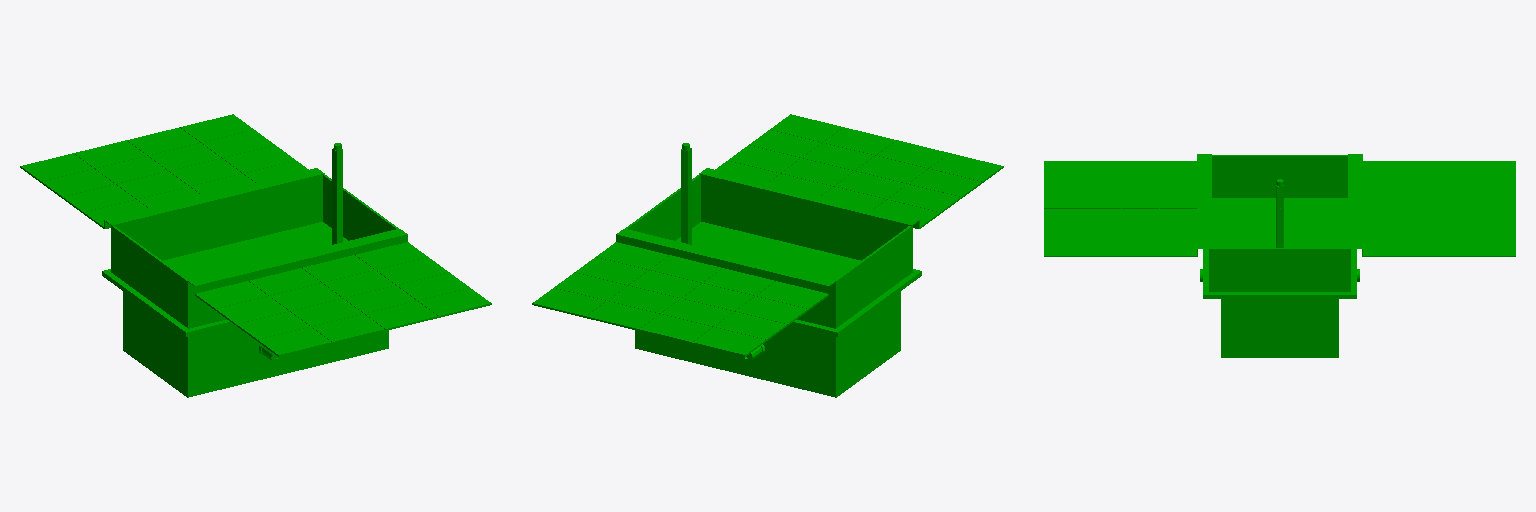
robot.urdf — yahboomcar:
<?xml version="1.0" encoding="utf-8"?>
<!-- This URDF was automatically created by SolidWorks to URDF Exporter! Originally created by [author] ([email redacted]) 
     Commit Version: 1.6.0-1-g15f4949  Build Version: 1.6.7594.29634  81.5+32.5
     For more information, please see http://wiki.ros.org/sw_urdf_exporter -->
<robot name="yahboomcar">
    <link name="base_footprint"/>
    <link name="imu_link"/>
    <link name="base_link">
        <inertial>
            <origin xyz="0.00498197982182523 5.70233829969297E-05 -0.0121008098068578" rpy="0 0 0"/>
            <mass value="0.486218814966626"/>
            <inertia
                    ixx="0.00196277727666921"
                    ixy="2.50447049446755E-07"
                    ixz="0.000140534767811098"
                    iyy="0.00457256033711368"
                    iyz="2.68618064993882E-07"
                    izz="0.00493927269870476"/>
        </inertial>
        <visual>
            <origin xyz="0 0 0" rpy="0 0 0"/>
            <geometry>
                <mesh filename="package://odom_visualization/meshes/yahboomcar_X3/mecanum/base_link.STL"/>
            </geometry>
            <material name="">
                <color rgba="0 0.7 0 1"/>
            </material>
        </visual>
        <collision>
            <origin xyz="0 0 0" rpy="0 0 0"/>
            <geometry>
                <mesh filename="package://odom_visualization/meshes/yahboomcar_X3/mecanum/base_link.STL"/>
            </geometry>
        </collision>
    </link>
    <joint name="base_joint" type="fixed">
        <parent link="base_footprint"/>
        <child link="base_link"/>
        <origin xyz="0.0 0.0 0.0815" rpy="0 0 0"/>
    </joint>
    <joint name="base_imu" type="fixed">
        <parent link="base_link"/>
        <child link="imu_link"/>
        <origin xyz="-0.06 0.01 0.01" rpy="0 3.1415 1.5707"/>
    </joint>
    <link name="front_right_wheel">
        <inertial>
            <origin xyz="1.9051E-06 -2.3183E-07 -0.00064079" rpy="0 0 0"/>
            <mass value="0.051532"/>
            <inertia ixx="1.4595E-05" ixy="-4.3975E-10" ixz="4.415E-10"
                     iyy="1.4594E-05" iyz="-1.7476E-09" izz="2.4264E-05"/>
        </inertial>
        <visual>
            <origin xyz="0 0 0" rpy="0 0 0"/>
            <geometry>
                <mesh filename="package://odom_visualization/meshes/yahboomcar_X3/mecanum/front_right_wheel.STL"/>
            </geometry>
            <material name="">
                <color rgba="0.7 0.7 0.7 1"/>
            </material>
        </visual>
        <collision>
            <origin xyz="0 0 0" rpy="0 0 0"/>
            <geometry>
                <mesh filename="package://odom_visualization/meshes/yahboomcar_X3/mecanum/front_right_wheel.STL"/>
            </geometry>
        </collision>
    </link>
    <joint name="front_right_joint" type="continuous">
        <origin xyz="0.08 -0.0845 -0.0389" rpy="-1.5703 0 3.14159"/>
        <parent link="base_link"/>
        <child link="front_right_wheel"/>
        <axis xyz="0 0 1" rpy="0 0 0"/>
        <limit effort="100" velocity="1"/>
    </joint>
    <link name="front_left_wheel">
        <inertial>
            <origin xyz="2.3728E-06 -9.4228E-07 0.00064068" rpy="0 0 0"/>
            <mass value="0.051543"/>
            <inertia ixx="1.4597E-05" ixy="-4.7945E-10" ixz="-2.4786E-10"
                     iyy="1.4598E-05" iyz="1.7972E-09" izz="2.4267E-05"/>
        </inertial>
        <visual>
            <origin xyz="0 0 0" rpy="0 0 0"/>
            <geometry>
                <mesh filename="package://odom_visualization/meshes/yahboomcar_X3/mecanum/front_left_wheel.STL"/>
            </geometry>
            <material name="">
                <color rgba="0.7 0.7 0.7 1"/>
            </material>
        </visual>
        <collision>
            <origin xyz="0 0 0" rpy="0 0 0"/>
            <geometry>
                <mesh filename="package://odom_visualization/meshes/yahboomcar_X3/mecanum/front_left_wheel.STL"/>
            </geometry>
        </collision>
    </link>
    <joint name="front_left_joint" type="continuous">
        <origin xyz="0.08 0.084492 -0.0389" rpy="1.5703 0 0"/>
        <parent link="base_link"/>
        <child link="front_left_wheel"/>
        <axis xyz="0 0 1" rpy="0 0 0"/>
        <limit effort="100" velocity="1"/>
    </joint>
    <link name="back_right_wheel">
        <inertial>
            <origin xyz="-1.75924169923403E-06 1.28388821071107E-06 -0.000590549296238266" rpy="0 0 0"/>
            <mass value="0.051540174053366"/>
            <inertia ixx="1.45974152250002E-05" ixy="1.94850559178397E-10" ixz="-1.61846387282284E-09"
                     iyy="1.4596501955693E-05" iyz="-6.27904057423818E-10" izz="2.42663091380451E-05"/>
        </inertial>
        <visual>
            <origin xyz="0 0 0" rpy="0 0 0"/>
            <geometry>
                <mesh filename="package://odom_visualization/meshes/yahboomcar_X3/mecanum/back_right_wheel.STL"/>
            </geometry>
            <material name="">
                <color rgba="0.7 0.7 0.7 1"/>
            </material>
        </visual>
        <collision>
            <origin xyz="0 0 0" rpy="0 0 0"/>
            <geometry>
                <mesh filename="package://odom_visualization/meshes/yahboomcar_X3/mecanum/back_right_wheel.STL"/>
            </geometry>
        </collision>
    </link>
    <joint name="back_right_joint" type="continuous">
        <origin xyz="-0.08 -0.0845 -0.03946" rpy="-1.57 0 3.14159"/>
        <parent link="base_link"/>
        <child link="back_right_wheel"/>
        <axis xyz="0 0 1" rpy="0 0 0"/>
        <limit effort="100" velocity="1"/>
    </joint>
    <link name="back_left_wheel">
        <inertial>
            <origin xyz="-4.01213085227115E-07 2.04910264598596E-06 0.000590775697051377" rpy="0 0 0"/>
            <mass value="0.0515309299357028"/>
            <inertia ixx="1.45942986129926E-05" ixy="-3.19787215398093E-10" ixz="1.74943062058915E-09"
                     iyy="1.45948727598913E-05" iyz="1.61769812110049E-10" izz="2.4263683888153E-05"/>
        </inertial>
        <visual>
            <origin xyz="0 0 0" rpy="0 0 0"/>
            <geometry>
                <mesh filename="package://odom_visualization/meshes/yahboomcar_X3/mecanum/back_left_wheel.STL"/>
            </geometry>
            <material name="">
                <color rgba="0.7 0.7 0.7 1"/>
            </material>
        </visual>
        <collision>
            <origin xyz="0 0 0" rpy="0 0 0"/>
            <geometry>
                <mesh filename="package://odom_visualization/meshes/yahboomcar_X3/mecanum/back_left_wheel.STL"/>
            </geometry>
        </collision>
    </link>
    <joint name="back_left_joint" type="continuous">
        <origin xyz="-0.08 0.084492 -0.03954" rpy="1.5703 0 0"/>
        <parent link="base_link"/>
        <child link="back_left_wheel"/>
        <axis xyz="0 0 1" rpy="0 0 0"/>
        <limit effort="100" velocity="1"/>
    </joint>
    <link name="laser_link">
        <inertial>
            <origin xyz="-0.0176558922685589 0.000671805271544437 0.0219302095894866" rpy="0 0 0" />
            <mass value="0.0483909504209895" />
            <inertia ixx="1.58456966399128E-05" ixy="-4.23913983850005E-07" ixz="-2.09597897904374E-07"
                     iyy="3.89262522903605E-05" iyz="3.24809725932687E-07" izz="4.86230801106223E-05" />
        </inertial>
        <visual>
            <origin xyz="0 0 0" rpy="0 0 0"/>
            <geometry>
                <mesh filename="package://odom_visualization/meshes/yahboomcar_X3/sensor/laser_link.STL"/>
            </geometry>
            <material name="">
                <color rgba="0.7 0.7 0.7 1"/>
            </material>
        </visual>
        <collision>
            <origin xyz="0 0 0" rpy="0 0 0"/>
            <geometry>
                <mesh filename="package://odom_visualization/meshes/yahboomcar_X3/sensor/laser_link.STL"/>
            </geometry>
        </collision>
    </link>
    <joint name="laser_joint" type="fixed">
        <origin xyz="0.0435 5.25826986680105E-05 0.11" rpy="0 0 0"/>
        <parent link="base_link"/>
        <child link="laser_link"/>
    </joint>
    <link name="camera_link">
        <inertial>
            <origin xyz="0 0 0" rpy="0 0 0"/>
            <mass value="0"/>
            <inertia ixx="0" ixy="0" ixz="0" iyy="0" iyz="0" izz="0"/>
        </inertial>
        <visual>
            <origin xyz="0 0 0" rpy="0 0 0"/>
            <geometry>
                <mesh filename="package://odom_visualization/meshes/yahboomcar_X3/sensor/camera_link.STL"/>
            </geometry>
            <material name="">
                <color rgba="0.7 0.7 0.7 1"/>
            </material>
        </visual>
        <collision>
            <origin xyz="0 0 0" rpy="0 0 0"/>
            <geometry>
                <mesh filename="package://odom_visualization/meshes/yahboomcar_X3/sensor/camera_link.STL"/>
            </geometry>
        </collision>
    </link>
    <joint name="camera_joint" type="fixed">
        <origin xyz="0.057105 1.7948E-05 0.03755" rpy="0 0 0"/>
        <parent link="base_link"/>
        <child link="camera_link"/>
    </joint>
</robot>

--- Render facts (derived) ---
Views: 3 orthographic renders of the robot side by side, from view 1: azimuth 30°, elevation 25°; view 2: azimuth 150°, elevation 25°; view 3: azimuth 270°, elevation 25°.
Robot: yahboomcar — 9 links, 8 joints (4 continuous, 4 fixed); root link base_footprint; default pose: every joint at zero.
Visible links, largest first — view 1: base_link; view 2: base_link; view 3: base_link.
Link boxes in pixels (<box>): base_link: <box>20,114,491,397</box>; base_link: <box>532,114,1003,397</box>; base_link: <box>1044,154,1515,357</box>.
Size in the robot's own frame: 1 by 2 by 0.8224 metres.
2 mesh visuals loaded from 7 distinct referenced files (2 binary STL); not drawn: 5 (reference not matched to a file when rendering).